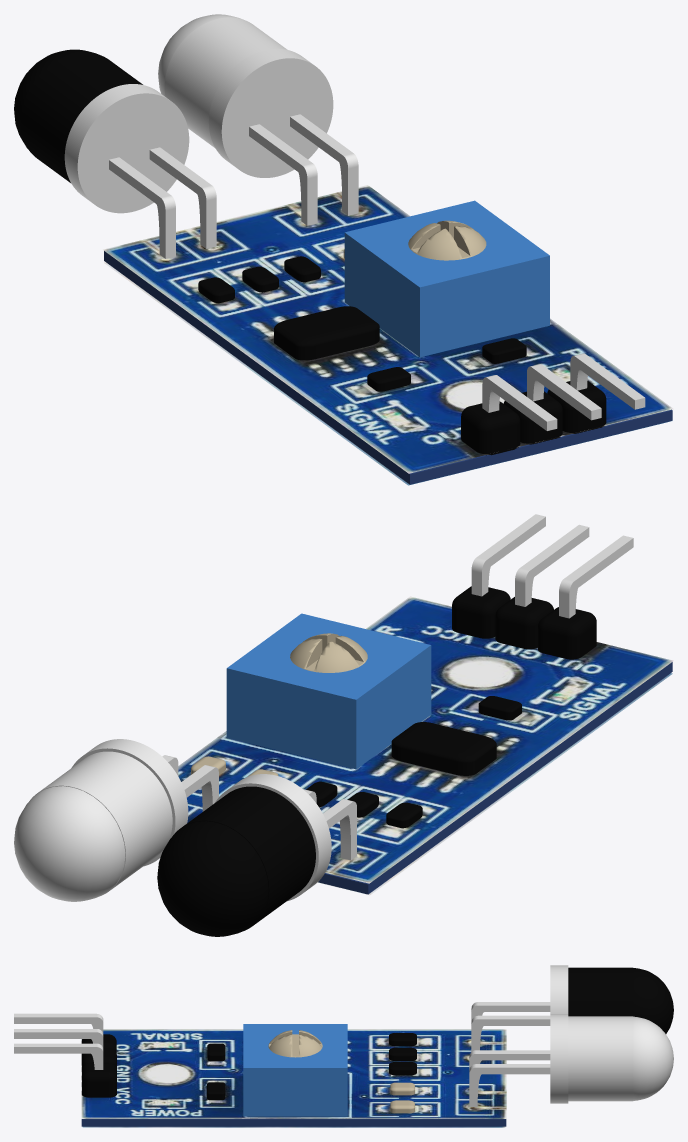
Rendered from ir sensor.glb.
3 renders of one model, top to bottom at view 1: azimuth 30°, elevation 25°; view 2: azimuth 150°, elevation 25°; view 3: azimuth 270°, elevation 25°, orthographic. The views are drawn at different scales.
Parts seen in each view (by area): view 1: ir top, Cube.001, Cylinder.003, Cylinder, Cylinder.005, Cylinder.002, Cube, Cube.002, Cube.014, Sphere, Cube.021, Cube.022 (+15 smaller); view 2: ir top, Cube.001, Sphere.002, Sphere.001, Cylinder.002, Cylinder.005, Cube.002, Cube, Cylinder.003, Cylinder, Cube.014, Sphere (+10 smaller); view 3: ir top, Cube.001, Cylinder.002, Cube, Cylinder.005, Sphere.001, Sphere.002, Cylinder, Cube.021, Cube.017, Sphere, Cube.012 (+16 smaller).
Boxes of the visible parts, bbox=[...] form: ir top: bbox=[103, 185, 673, 473]; Cube.001: bbox=[344, 200, 549, 357]; Cylinder.003: bbox=[64, 84, 189, 213]; Cylinder: bbox=[208, 48, 333, 177]; Cylinder.005: bbox=[20, 52, 142, 182]; Cylinder.002: bbox=[164, 17, 287, 148]; Cube: bbox=[104, 251, 672, 484]; Cube.002: bbox=[274, 306, 379, 360]; Cube.014: bbox=[461, 401, 520, 455]; Sphere: bbox=[408, 220, 486, 260]; Cube.021: bbox=[290, 114, 358, 215]; Cube.022: bbox=[249, 124, 317, 225]; ir top: bbox=[178, 596, 673, 883]; Cube.001: bbox=[226, 613, 431, 769]; Sphere.002: bbox=[157, 821, 268, 936]; Sphere.001: bbox=[14, 786, 125, 901]; Cylinder.002: bbox=[29, 751, 172, 895]; Cylinder.005: bbox=[172, 786, 315, 930]; Cube.002: bbox=[391, 722, 496, 775]; Cube: bbox=[318, 662, 672, 894]; Cylinder.003: bbox=[215, 774, 331, 901]; Cylinder: bbox=[71, 739, 188, 866]; Cube.014: bbox=[538, 607, 596, 659]; Sphere: bbox=[290, 633, 367, 672]; ir top: bbox=[81, 1029, 506, 1118]; Cube.001: bbox=[243, 1024, 347, 1116]; Cylinder.002: bbox=[568, 1016, 633, 1101]; Cube: bbox=[81, 1119, 506, 1126]; Cylinder.005: bbox=[568, 967, 633, 1016]; Sphere.001: bbox=[633, 1016, 673, 1100]; Sphere.002: bbox=[633, 968, 673, 1033]; Cylinder: bbox=[550, 1014, 568, 1103]; Cube.021: bbox=[469, 1064, 550, 1106]; Cube.017: bbox=[14, 1043, 103, 1069]; Sphere: bbox=[268, 1030, 322, 1057]; Cube.012: bbox=[82, 1063, 116, 1097].
Bounding box in the file's own units: 1.28 × 0.6486 × 3.98.
Materials: 6 (2 with a texture image).
